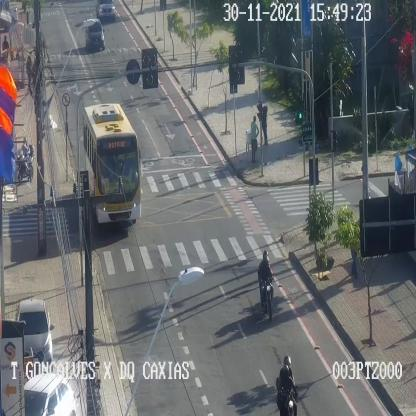bus: (83, 103, 141, 222)
car: (16, 299, 52, 371), (24, 372, 75, 416), (85, 19, 104, 49)
motorbike: (276, 356, 298, 415), (258, 250, 274, 322), (16, 137, 33, 185)
person: (350, 230, 358, 278), (250, 115, 258, 162), (262, 110, 268, 145), (26, 55, 32, 84)
